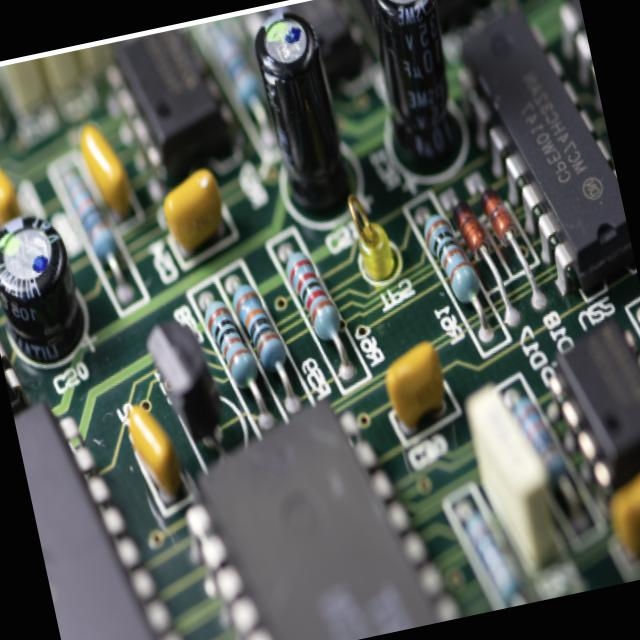Electrolytic capacitor: (246, 5, 360, 217), (354, 0, 477, 172), (0, 206, 96, 379)
IC: (454, 0, 638, 301)
resistor: (416, 213, 484, 317), (234, 274, 292, 379), (282, 244, 340, 348), (203, 292, 263, 390)
transistor: (144, 319, 234, 466)
zener diode: (480, 186, 520, 257), (452, 198, 491, 254)
